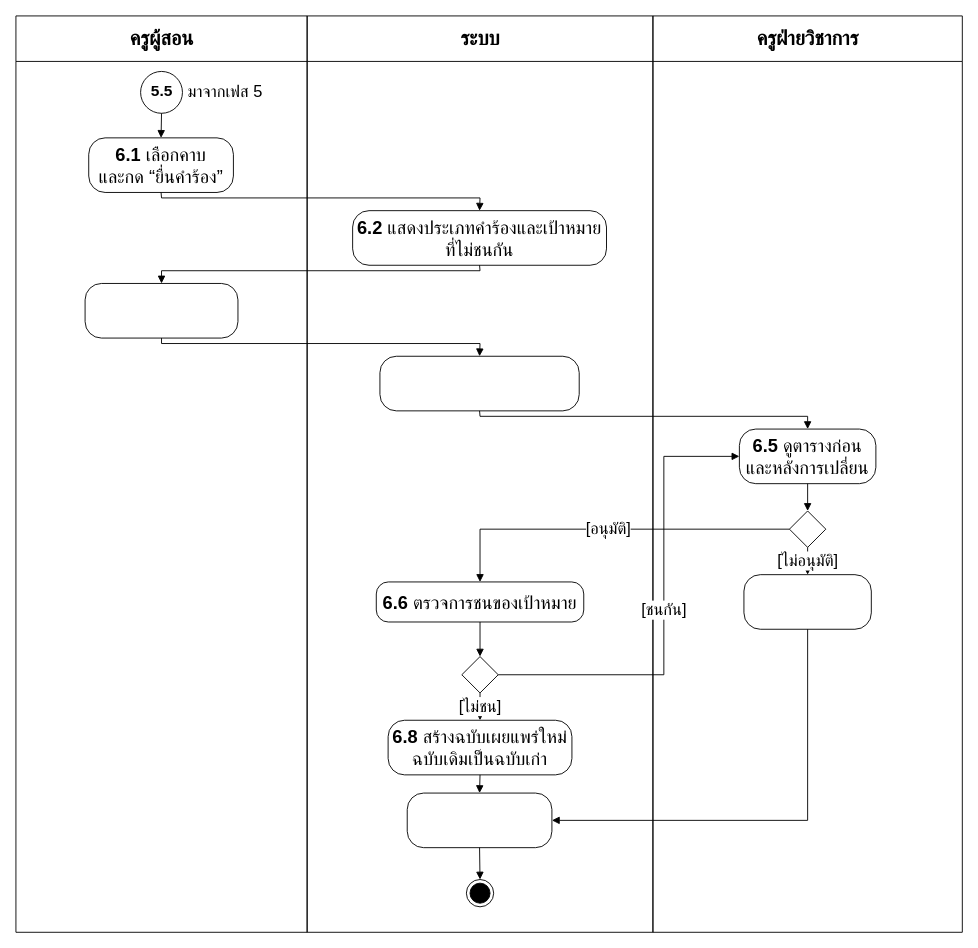
The diagram is 978 pixels wide and 948 high, and some of its shapes have lost their labels. Here are the shapes that lost their labels. From the top down, the centre of each, then its label:
At (x=161, y=310): "6.3 เลือกเป้าหมาย เหตุผล และหมายเหตุ".
At (x=479, y=383): "6.4 บันทึกคำร้อง “รออนุมัติ” และแจ้งครูฝ่ายวิชาการ".
At (x=807, y=601): "6.7 ไม่อนุมัติ พร้อมหมายเหตุ".
At (x=479, y=820): "6.9 บันทึกประวัติ และแจ้งเตือนครูผู้ยื่น".
